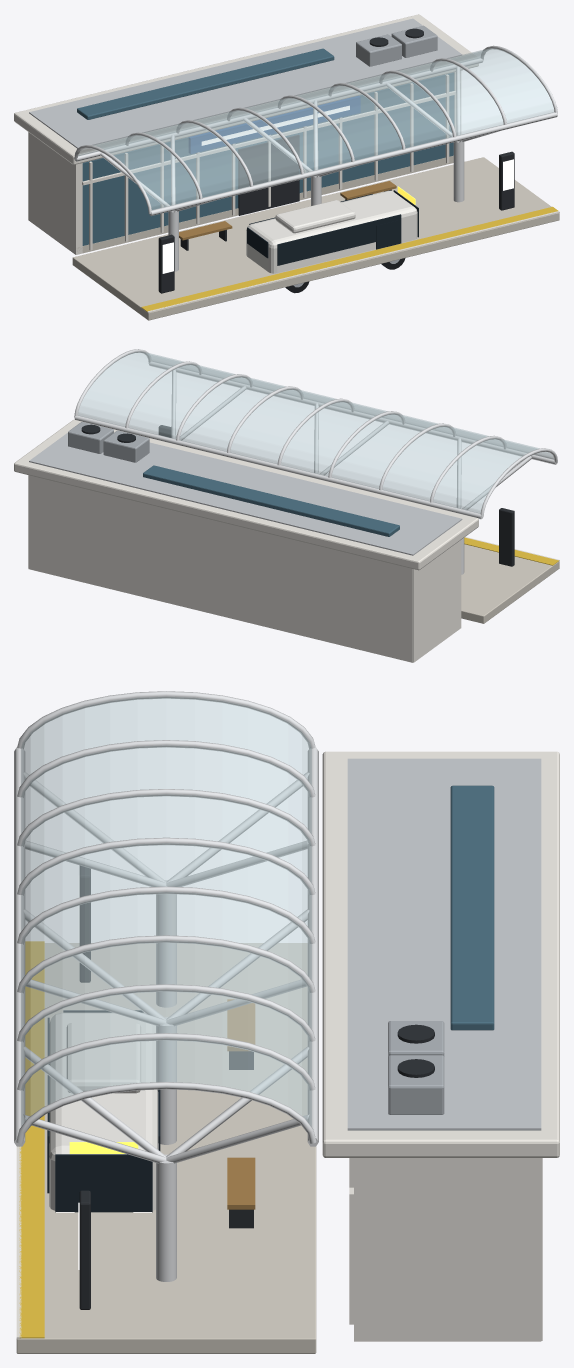
Rendered from transit.glb.
The picture shows the model from 3 angles, top to bottom: view 1: azimuth 30°, elevation 25°; view 2: azimuth 150°, elevation 25°; view 3: azimuth 270°, elevation 25°; orthographic projection. The views are drawn at different scales.
Visible parts, largest first — view 1: transit-body, bus; view 2: transit-body; view 3: transit-body, bus.
Boxes of the visible parts, x1,y1,x2,y2 form: transit-body: [14, 14, 559, 320]; bus: [246, 186, 418, 293]; transit-body: [14, 349, 559, 662]; transit-body: [14, 691, 559, 1353]; bus: [47, 1010, 160, 1212].
Size of the model in its own units: 15 by 5.32 by 8.74.
